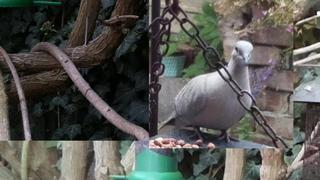collared dove: (158, 40, 253, 143)
